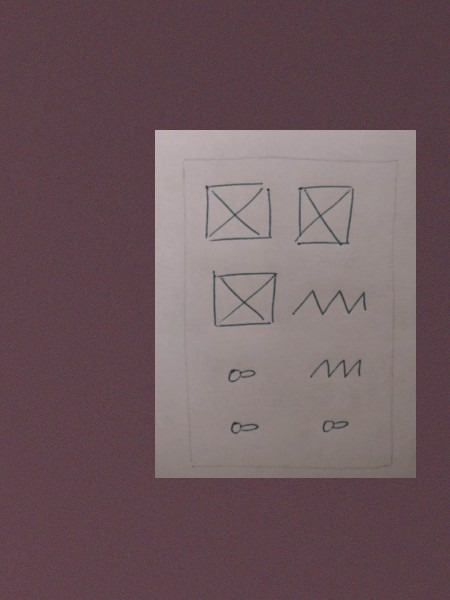image: (197, 178, 277, 245), (204, 268, 284, 332), (293, 180, 358, 249)
switch: (225, 411, 267, 444), (221, 361, 262, 391), (317, 413, 353, 437)
text: (290, 283, 370, 322), (302, 351, 366, 384)
